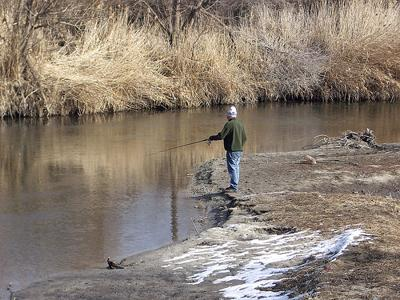person: (208, 106, 246, 193)
